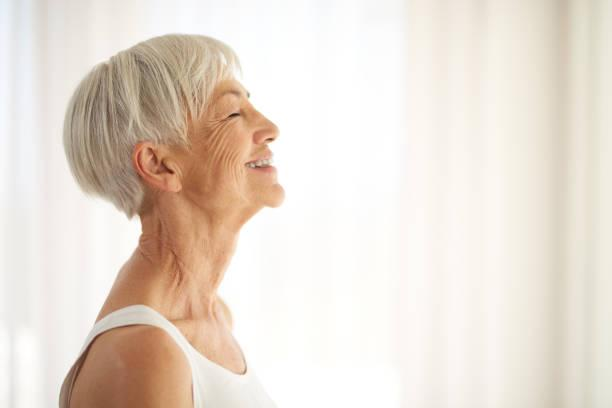Dry-Skin: (200, 119, 241, 194)
